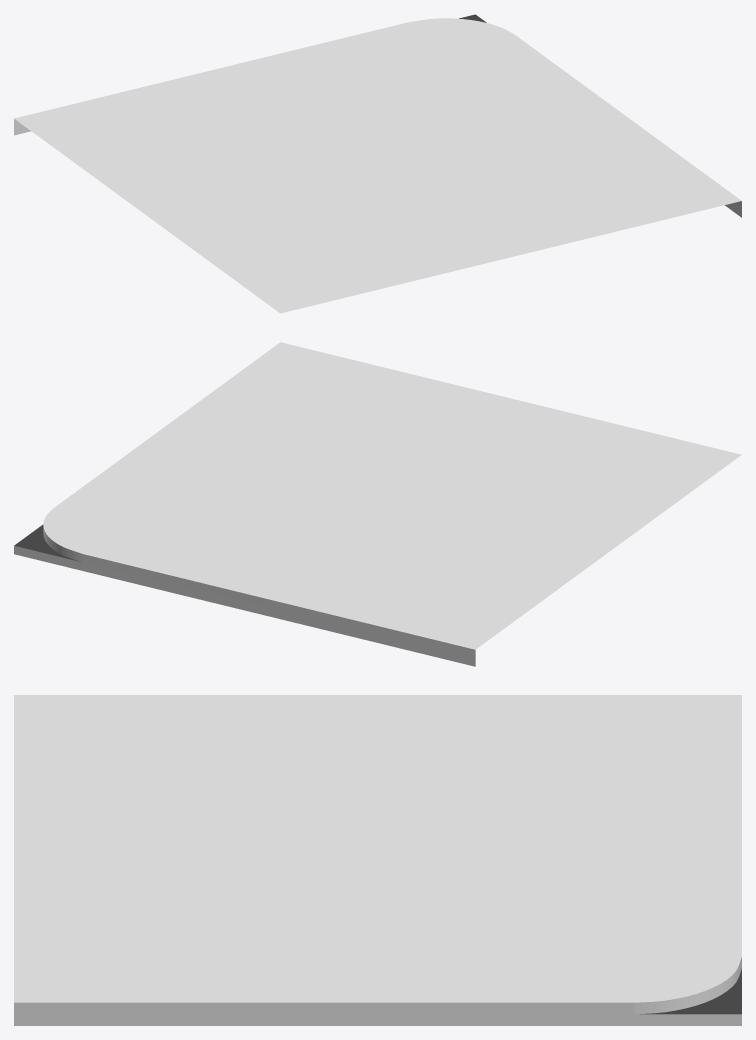
The model's file is pavement intersection edge.fbx.
The picture shows the model from 3 angles, top to bottom: view 1: azimuth 30°, elevation 25°; view 2: azimuth 150°, elevation 25°; view 3: azimuth 270°, elevation 25°; orthographic projection. The views are drawn at different scales.
Parts seen in each view (by area): view 1: pavement_intersection_edge; view 2: pavement_intersection_edge; view 3: pavement_intersection_edge.
Part boxes in pixels (left/top/right/bottom): pavement_intersection_edge: left=14, top=14, right=741, bottom=313; pavement_intersection_edge: left=14, top=342, right=741, bottom=666; pavement_intersection_edge: left=14, top=695, right=741, bottom=1025.
Size of the model in its own units: 1000 by 35.23 by 1000.
